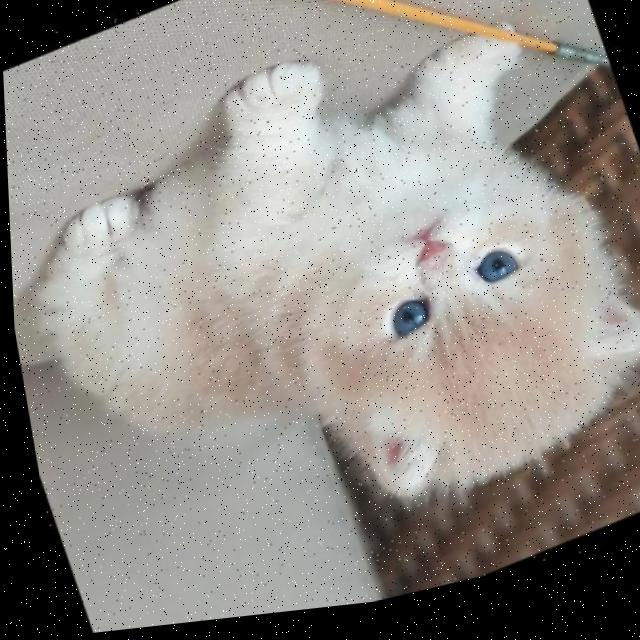Cats: (1, 0, 640, 640)
